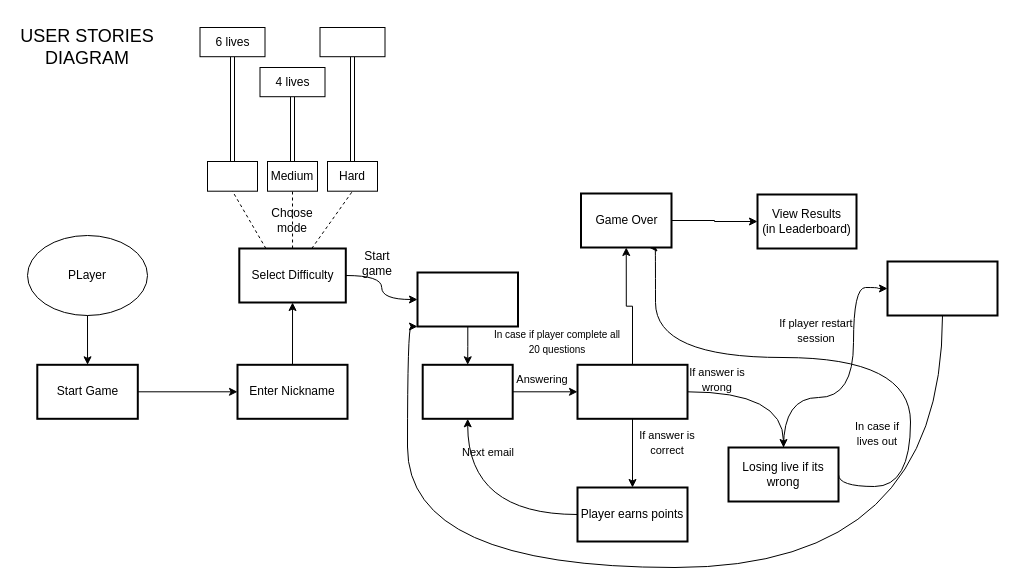
The diagram is 1015 pixels wide and 585 high, and some of its shapes have lost their labels. The centre of each missing label's shape, as x and y in pixels:
"2 lives" goes at [352,41].
"Easy" goes at [232,175].
"Mark as Phishing/Real" goes at [632,391].
"Restart game" goes at [942,288].
"Start Session" goes at [467,299].
"View Email" goes at [467,391].
